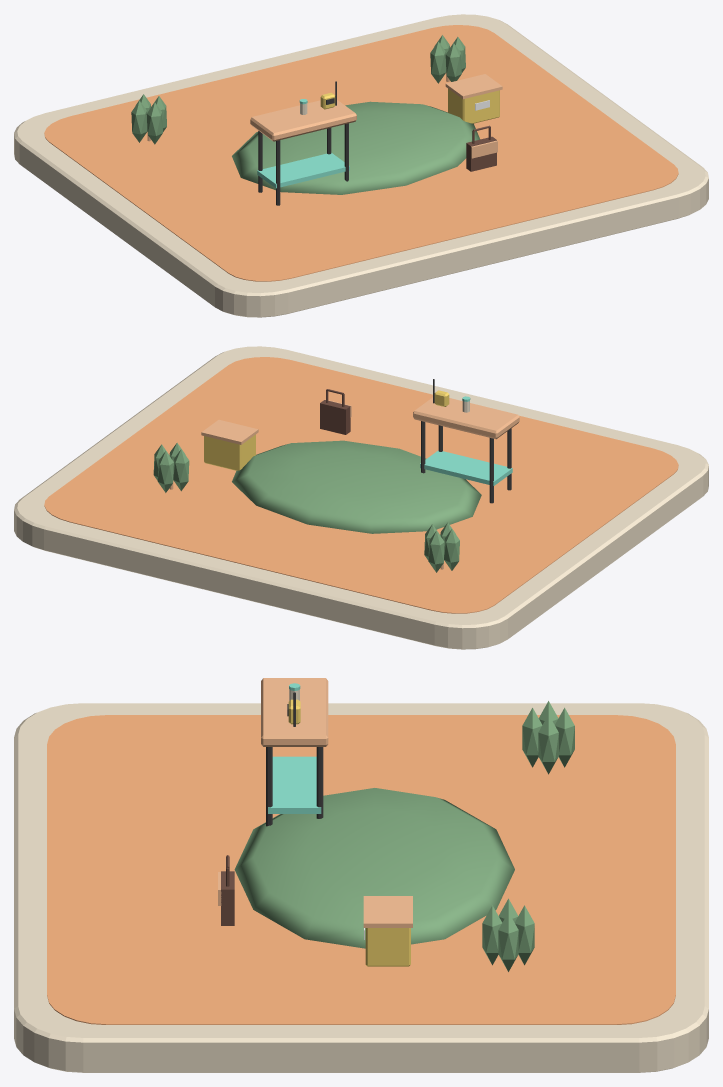
File: room.fbx
3 views of the same model, one above another, from view 1: azimuth 30°, elevation 25°; view 2: azimuth 150°, elevation 25°; view 3: azimuth 270°, elevation 25° (orthographic). The views are drawn at different scales.
Parts seen in each view (by area): view 1: COM-02 Floor Surface, COM-01 Rounded Base Direct, Low terrain, Worktop, Lower shelf, Box, Bag, Lid, Leaf.003, Leaf.002, Leaf.006, Leaf.007; view 2: COM-02 Floor Surface, COM-01 Rounded Base Direct, Low terrain, Worktop, Lower shelf, Box, Bag, Lid, Leaf.005, Leaf.001, Leaf.002, Leaf.006; view 3: COM-02 Floor Surface, COM-01 Rounded Base Direct, Low terrain, Worktop, Lower shelf, Box, Lid, Bag, Leaf, Leaf.004, Leaf.005, Leaf.007 (+2 smaller).
Part boxes in pixels (left/top/right/bottom): COM-02 Floor Surface: left=44, top=25, right=678, bottom=281; COM-01 Rounded Base Direct: left=14, top=14, right=708, bottom=317; Low terrain: left=232, top=101, right=480, bottom=194; Worktop: left=250, top=100, right=356, bottom=141; Lower shelf: left=257, top=153, right=349, bottom=188; Box: left=448, top=88, right=499, bottom=123; Bag: left=466, top=125, right=497, bottom=171; Lid: left=445, top=74, right=502, bottom=99; Leaf.003: left=146, top=102, right=162, bottom=144; Leaf.002: left=131, top=100, right=147, bottom=142; Leaf.006: left=430, top=41, right=446, bottom=83; Leaf.007: left=445, top=43, right=461, bottom=81; COM-02 Floor Surface: left=44, top=357, right=678, bottom=613; COM-01 Rounded Base Direct: left=14, top=346, right=708, bottom=649; Low terrain: left=232, top=440, right=481, bottom=533; Worktop: left=413, top=397, right=519, bottom=439; Lower shelf: left=420, top=450, right=512, bottom=485; Box: left=204, top=434, right=255, bottom=470; Bag: left=320, top=389, right=351, bottom=434; Lid: left=201, top=419, right=258, bottom=444; Leaf.005: left=157, top=451, right=173, bottom=492; Leaf.001: left=428, top=531, right=444, bottom=572; Leaf.002: left=444, top=529, right=459, bottom=570; Leaf.006: left=173, top=449, right=189, bottom=491; COM-02 Floor Surface: left=47, top=715, right=675, bottom=1024; COM-01 Rounded Base Direct: left=14, top=703, right=708, bottom=1072; Low terrain: left=234, top=788, right=514, bottom=948; Worktop: left=261, top=678, right=328, bottom=746; Lower shelf: left=268, top=756, right=321, bottom=813; Box: left=365, top=928, right=410, bottom=966; Lid: left=363, top=896, right=412, bottom=927; Bag: left=218, top=855, right=234, bottom=925; Leaf: left=538, top=714, right=558, bottom=774; Leaf.004: left=498, top=912, right=518, bottom=971; Leaf.005: left=514, top=905, right=534, bottom=965; Leaf.007: left=482, top=905, right=502, bottom=965.
Bounding box in the file's own units: 600 × 148 × 520.
